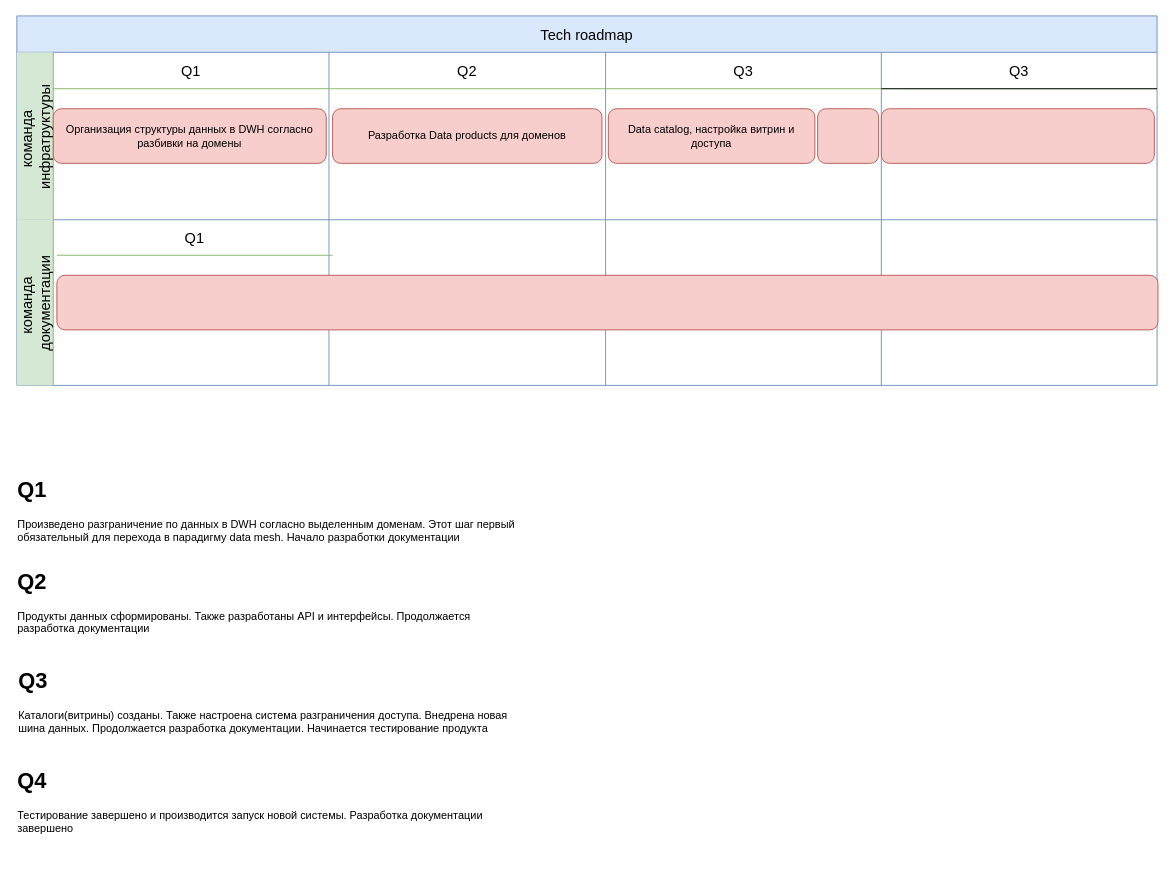
Image size: 1174x872. Some labels were removed from this diagram. The shapes that lost their labels are listed below. From the top down, each one's centre as x and y in pixels, then its label:
point 848,135: Внедрение новой шины данных
point 1017,135: Тестрование и запуск
point 607,302: Разработка общей документации
